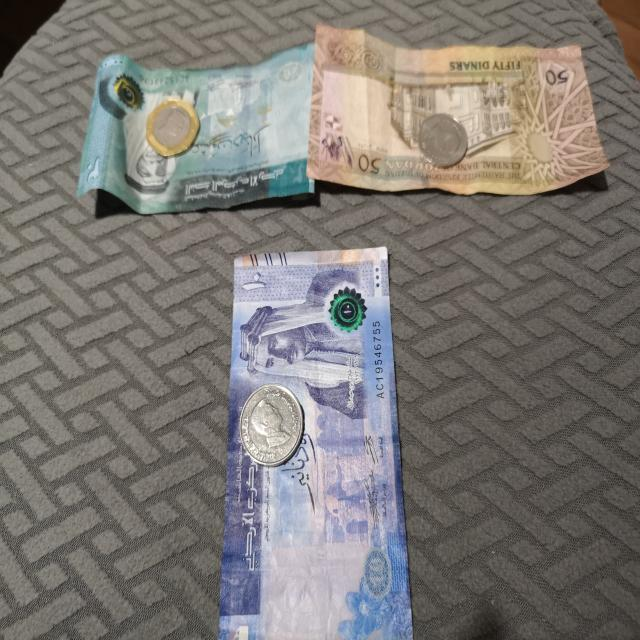10-coins: (239, 383, 303, 467)
10-dinar: (218, 246, 413, 640)
20-dinar: (78, 43, 314, 214)
50-coins: (146, 100, 199, 156)
50-dinar: (306, 24, 610, 196)
